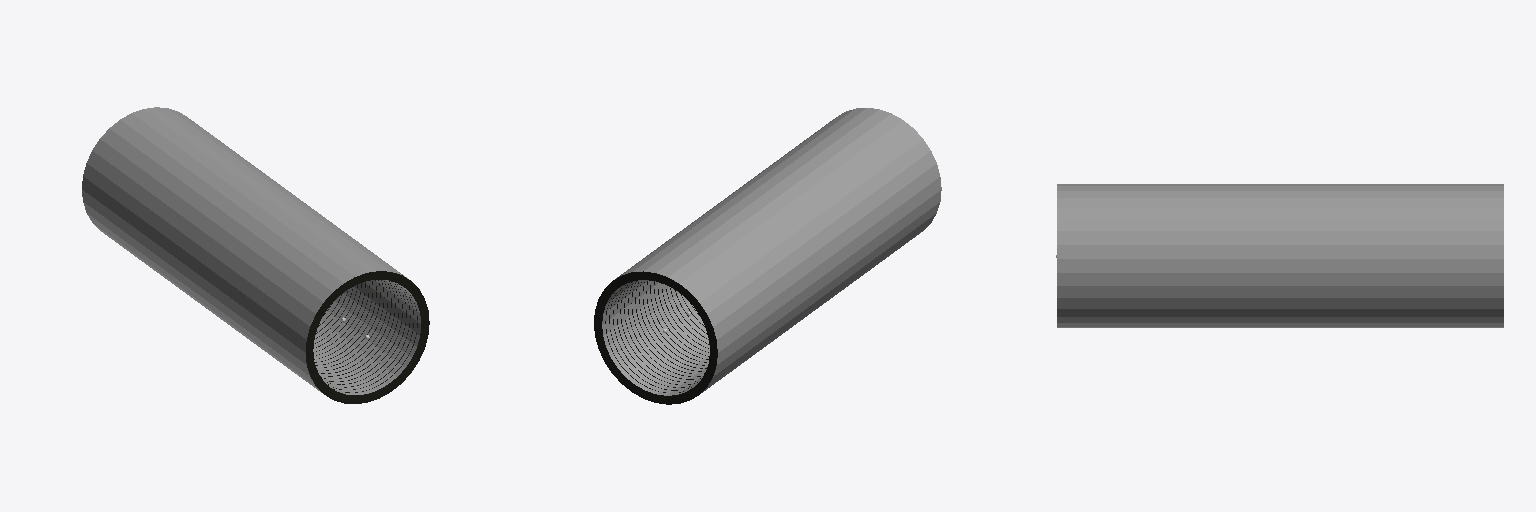
Rendered from world.obj.
3 renders of one model, left to right at view 1: azimuth 30°, elevation 25°; view 2: azimuth 150°, elevation 25°; view 3: azimuth 270°, elevation 25°, orthographic.
Visible parts, largest first — view 1: Cylinder.000_Rotator.016, Cylinder.002_Rotator.018, Cylinder.001_Rotator.017, Cylinder.003_Rotator.019, Cylinder.005_Rotator.021, Cylinder.004_Rotator.020, Cylinder.006_Rotator.022, Cylinder.007_Rotator.023, Cylinder.008_Rotator.024, Cylinder.009_Rotator.025, Cylinder.011_Rotator.027, Cylinder.010_Rotator.026 (+28 smaller); view 2: Cylinder.015_Rotator.015, Cylinder.059_Rotator.074, Cylinder.058_Rotator.073, Cylinder.056_Rotator.071, Cylinder.057_Rotator.072, Cylinder.054_Rotator.069, Cylinder.055_Rotator.070, Cylinder.053_Rotator.068, Cylinder.052_Rotator.067, Cylinder.051_Rotator.066, Cylinder.050_Rotator.065, Cylinder.049_Rotator.064 (+28 smaller); view 3: Cylinder.059_Rotator.074, Cylinder.056_Rotator.071, Cylinder.054_Rotator.069, Cylinder.052_Rotator.067, Cylinder.050_Rotator.065, Cylinder.048_Rotator.063, Cylinder.046_Rotator.061, Cylinder.043_Rotator.058, Cylinder.041_Rotator.056, Cylinder.039_Rotator.054, Cylinder.037_Rotator.052, Cylinder.035_Rotator.050 (+28 smaller).
Part boxes in pixels (x1,y1,x2,y2): Cylinder.000_Rotator.016: (302, 268, 429, 403); Cylinder.002_Rotator.018: (294, 263, 413, 389); Cylinder.001_Rotator.017: (298, 266, 417, 392); Cylinder.003_Rotator.019: (291, 260, 410, 387); Cylinder.005_Rotator.021: (283, 255, 402, 381); Cylinder.004_Rotator.020: (287, 257, 406, 384); Cylinder.006_Rotator.022: (279, 252, 398, 378); Cylinder.007_Rotator.023: (276, 249, 395, 376); Cylinder.008_Rotator.024: (272, 246, 391, 373); Cylinder.009_Rotator.025: (268, 244, 387, 370); Cylinder.011_Rotator.027: (261, 238, 380, 365); Cylinder.010_Rotator.026: (265, 241, 384, 367); Cylinder.015_Rotator.015: (594, 269, 721, 404); Cylinder.059_Rotator.074: (605, 266, 724, 392); Cylinder.058_Rotator.073: (609, 263, 728, 390); Cylinder.056_Rotator.071: (617, 258, 736, 384); Cylinder.057_Rotator.072: (613, 261, 732, 387); Cylinder.054_Rotator.069: (624, 252, 743, 379); Cylinder.055_Rotator.070: (620, 255, 739, 382); Cylinder.053_Rotator.068: (628, 250, 747, 376); Cylinder.052_Rotator.067: (631, 247, 750, 373); Cylinder.051_Rotator.066: (635, 244, 754, 371); Cylinder.050_Rotator.065: (639, 241, 758, 368); Cylinder.049_Rotator.064: (643, 239, 762, 365); Cylinder.059_Rotator.074: (1489, 184, 1496, 327); Cylinder.056_Rotator.071: (1467, 184, 1474, 327); Cylinder.054_Rotator.069: (1452, 184, 1459, 327); Cylinder.052_Rotator.067: (1437, 184, 1444, 327); Cylinder.050_Rotator.065: (1422, 184, 1429, 327); Cylinder.048_Rotator.063: (1407, 184, 1414, 327); Cylinder.046_Rotator.061: (1392, 184, 1399, 327); Cylinder.043_Rotator.058: (1370, 184, 1377, 327); Cylinder.041_Rotator.056: (1355, 184, 1362, 327); Cylinder.039_Rotator.054: (1340, 184, 1347, 327); Cylinder.037_Rotator.052: (1325, 184, 1332, 327); Cylinder.035_Rotator.050: (1310, 184, 1317, 327).
Bounding box in the file's own units: 30.22 × 30.22 × 94.57.